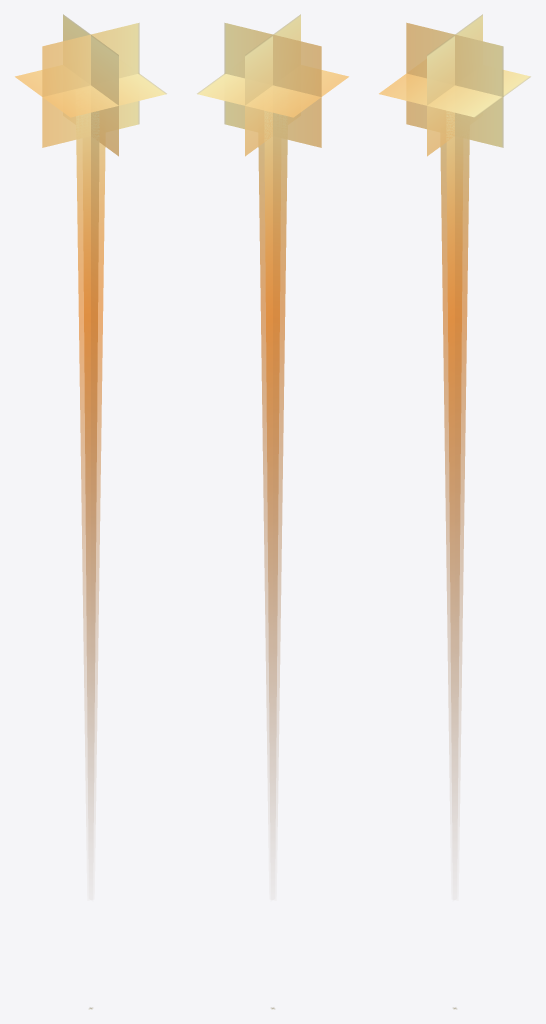
File: fw_rocket.glb
3 views of the same model, side by side, from view 1: azimuth 30°, elevation 25°; view 2: azimuth 150°, elevation 25°; view 3: azimuth 330°, elevation 25° (orthographic).
Visible parts, largest first — view 1: spire; view 2: spire; view 3: spire.
Part boxes in pixels (bbox=[...]): spire: bbox=[15, 14, 166, 1009]; spire: bbox=[197, 14, 348, 1009]; spire: bbox=[379, 14, 530, 1009].
Bounding box in the file's own units: 0.44 × 4.22 × 0.44.
Materials: 1 (1 with a texture image).
